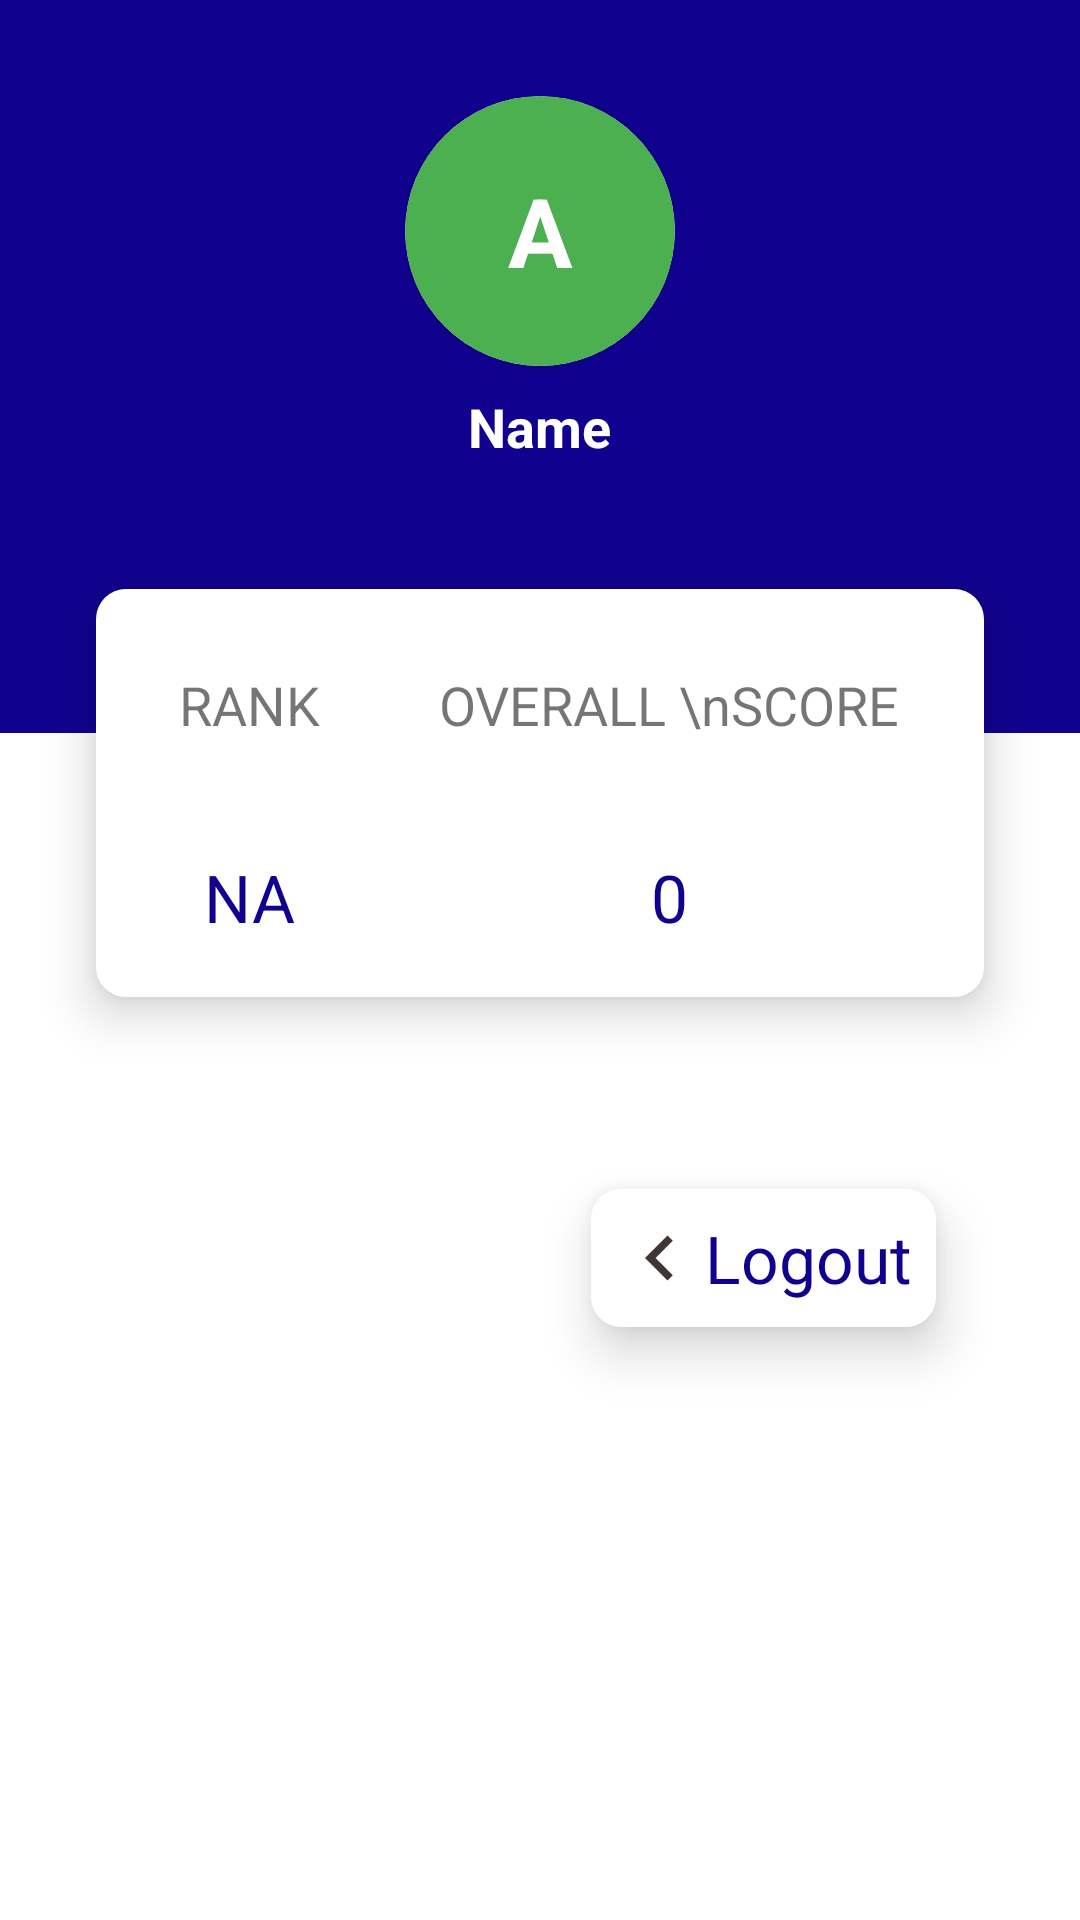

Where icons sit on this 1080 x 1920 app screen, as (x1, y1, x2, y2):
left arrow: (645, 1235, 673, 1281)
